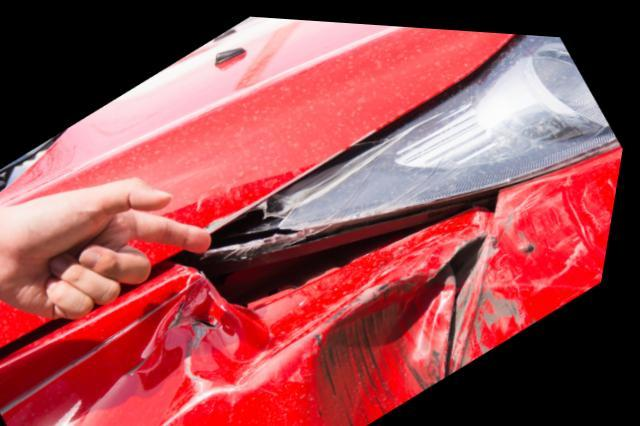dent: (29, 202, 491, 426)
dislocated part: (0, 181, 501, 426)
lamp broken: (213, 27, 624, 255)
scratch: (468, 160, 622, 362)
